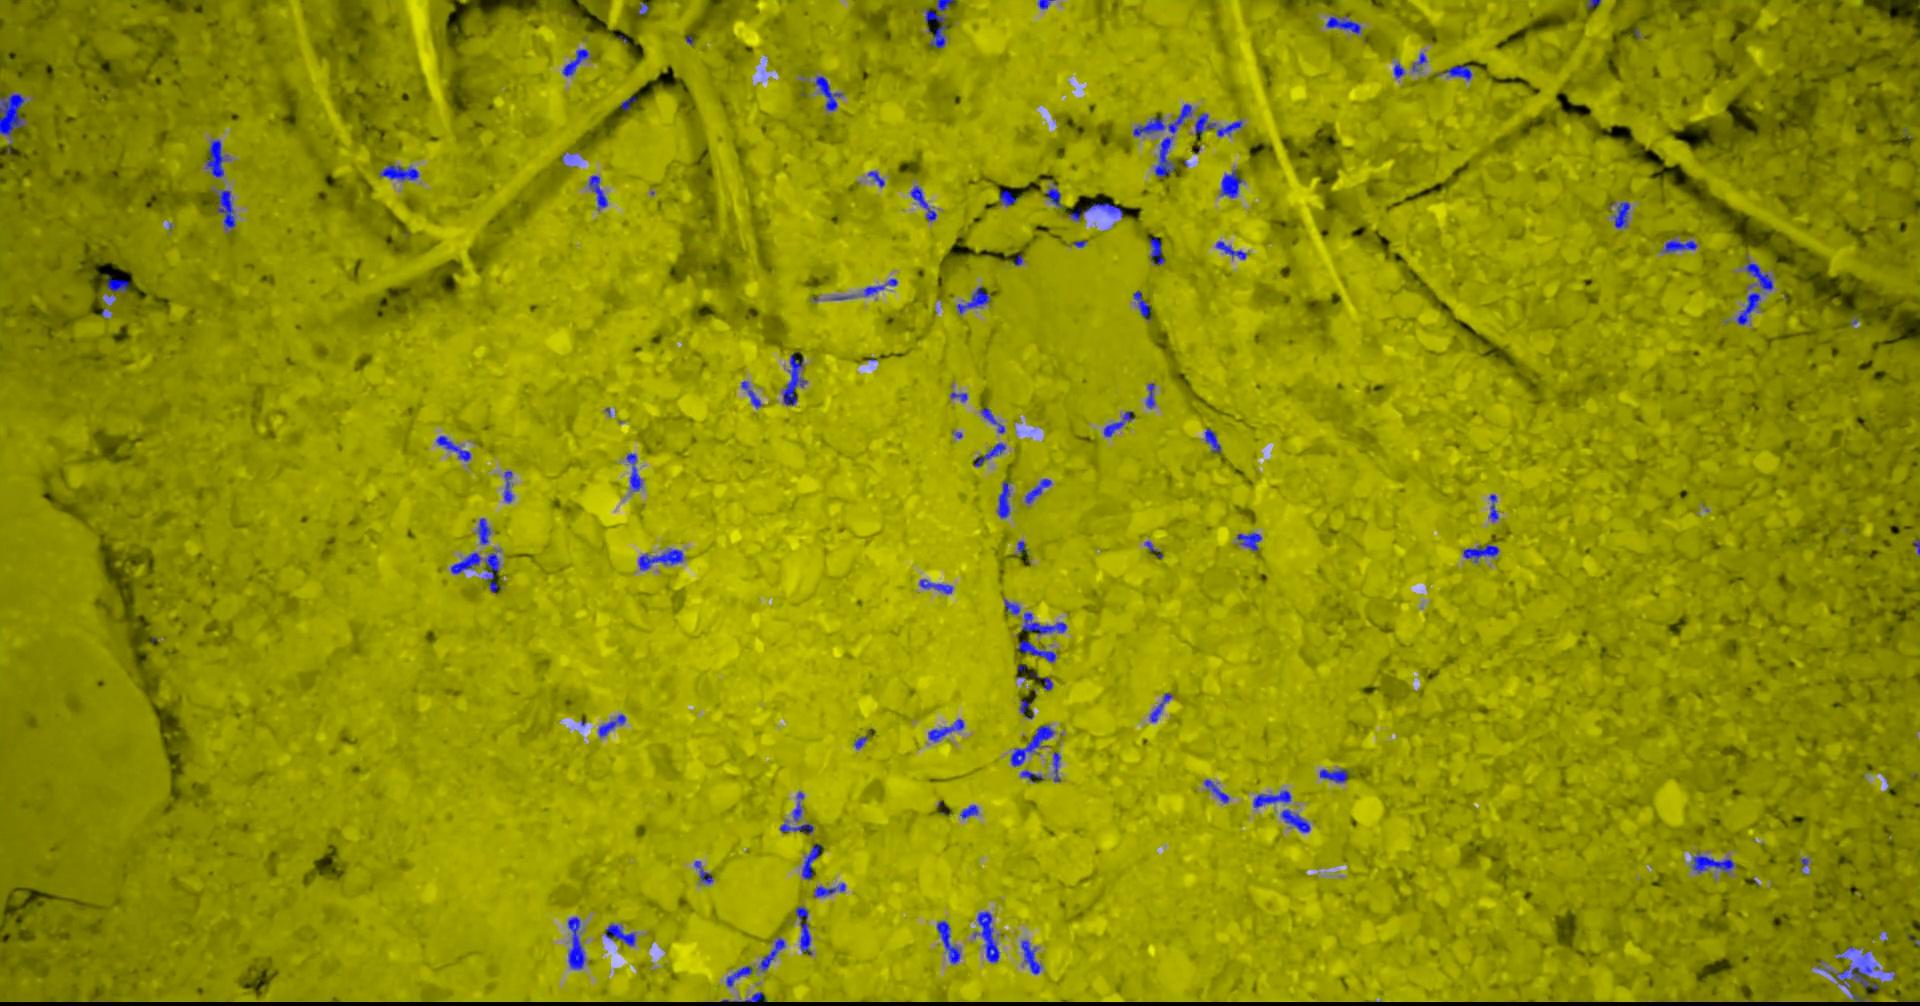ant: (1131, 103, 1191, 177), (1010, 724, 1054, 766), (1836, 951, 1878, 989), (924, 0, 954, 48), (782, 353, 806, 405), (977, 911, 999, 962), (1194, 113, 1242, 136), (0, 93, 24, 136), (1021, 612, 1065, 635), (637, 549, 683, 570), (936, 920, 959, 963), (815, 75, 842, 111), (1069, 202, 1123, 220), (1691, 852, 1736, 873), (956, 286, 989, 312), (568, 916, 584, 969), (910, 185, 936, 220), (436, 434, 470, 460), (758, 937, 783, 970), (206, 138, 227, 177), (1017, 639, 1055, 661), (795, 906, 811, 954), (1745, 262, 1773, 290), (215, 191, 235, 229), (927, 719, 963, 741), (1736, 292, 1760, 324), (973, 442, 1004, 466), (1103, 410, 1133, 436), (801, 843, 822, 879), (561, 50, 588, 76), (1023, 478, 1051, 503), (378, 163, 418, 180), (1280, 809, 1310, 832), (1020, 940, 1040, 974), (604, 923, 635, 945), (1462, 544, 1498, 561), (588, 175, 607, 210), (1324, 15, 1360, 33), (1149, 692, 1171, 721), (1252, 790, 1290, 807), (450, 553, 480, 573), (1203, 779, 1228, 803), (982, 406, 1004, 433), (1220, 169, 1242, 197), (484, 553, 499, 592), (1435, 64, 1470, 80), (1215, 240, 1246, 259), (626, 453, 641, 492), (598, 714, 625, 735), (1131, 290, 1150, 319), (725, 965, 752, 986), (720, 991, 766, 1002), (742, 380, 761, 406), (919, 578, 952, 593), (997, 480, 1010, 518), (1611, 201, 1629, 227), (1045, 183, 1063, 208), (1236, 532, 1261, 550), (1204, 427, 1220, 453), (778, 821, 813, 833), (693, 860, 712, 883), (814, 882, 844, 895), (1663, 239, 1697, 251), (1030, 671, 1051, 690), (1319, 768, 1349, 782), (1149, 238, 1164, 264), (105, 274, 130, 291), (477, 518, 490, 544), (792, 791, 803, 821), (999, 189, 1018, 205), (1020, 770, 1043, 782), (503, 471, 512, 502), (1051, 751, 1060, 781), (1412, 52, 1426, 71), (959, 804, 978, 818), (867, 171, 884, 187), (1490, 494, 1498, 521), (620, 95, 635, 111), (1145, 384, 1154, 408), (863, 285, 884, 295), (1004, 600, 1018, 614), (1393, 64, 1403, 77)
